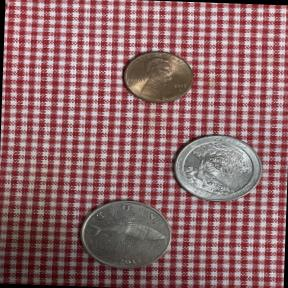Croatia-2Kune-B: (72, 196, 179, 276)
US-1cent-B: (116, 46, 198, 108)
US-25cent-B: (166, 129, 266, 207)
